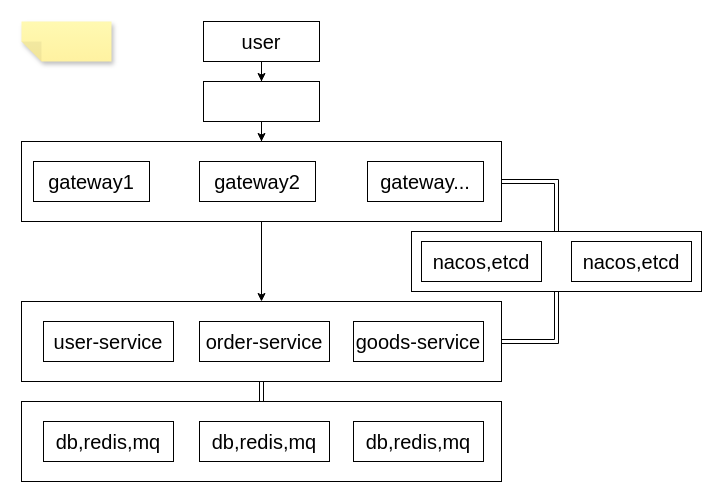
Image size: 719x499. Some labels were removed from this diagram. The centre of each missing label's shape, as x and y in pixels:
"nginx" belongs at (261,101).
"架构图" belongs at (67,42).
